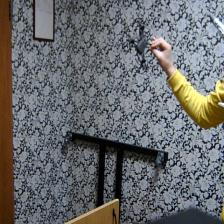drone: (116, 14, 164, 72)
